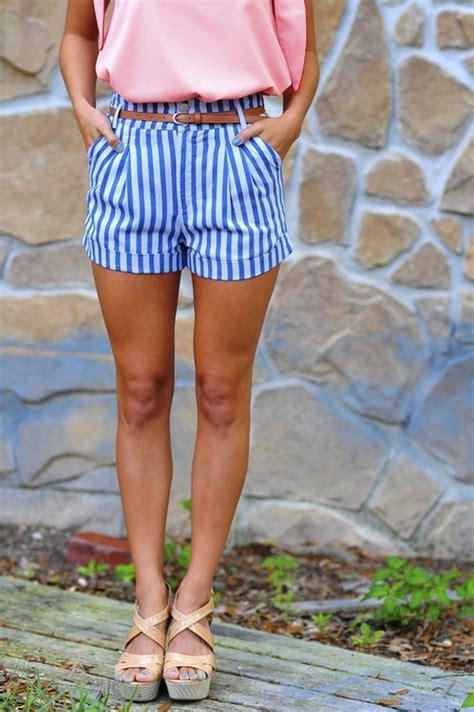short: (84, 96, 292, 280)
